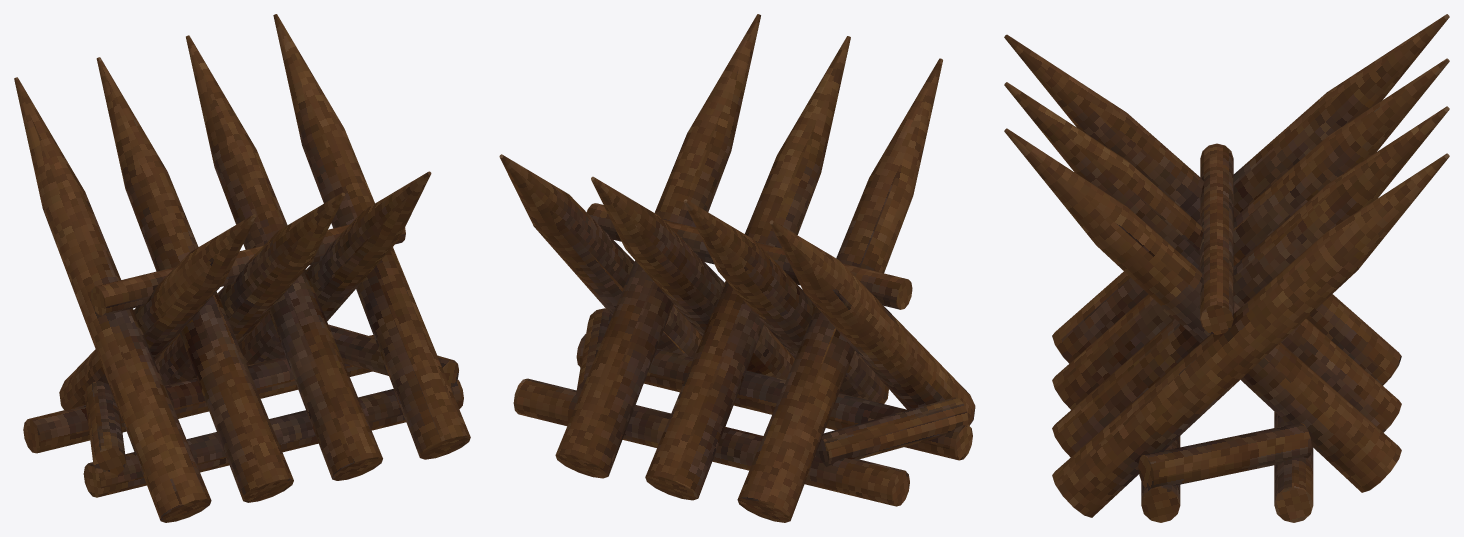
File: Spike_Fence_Variant_1.gltf
3 renders of one model, left to right at view 1: azimuth 30°, elevation 25°; view 2: azimuth 150°, elevation 25°; view 3: azimuth 270°, elevation 25°, orthographic. The views are drawn at different scales.
Visible parts, largest first — view 1: Spike_Fence_Variant_1; view 2: Spike_Fence_Variant_1; view 3: Spike_Fence_Variant_1.
Part boxes in pixels (x1,y1,x2,y2): Spike_Fence_Variant_1: [14, 14, 470, 522]; Spike_Fence_Variant_1: [499, 14, 975, 522]; Spike_Fence_Variant_1: [1004, 14, 1449, 522].
Bounding box in the file's own units: 4.79 × 4.1 × 4.59.
Materials: 1 (1 with a texture image).
